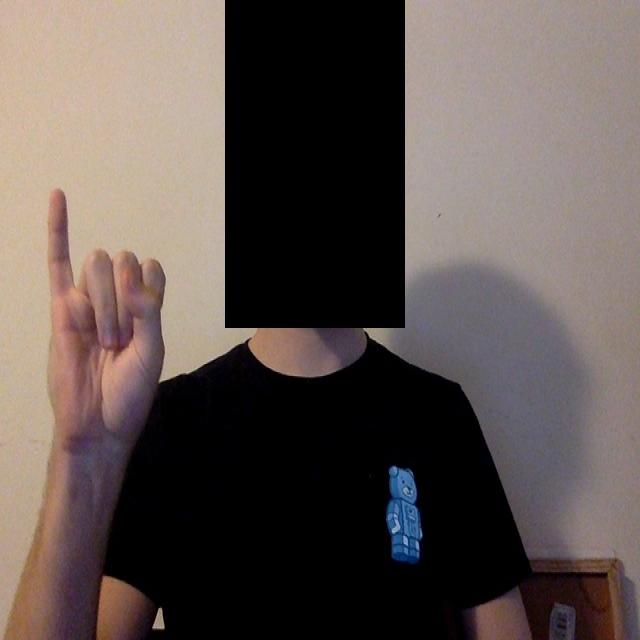I: (8, 155, 220, 484)
